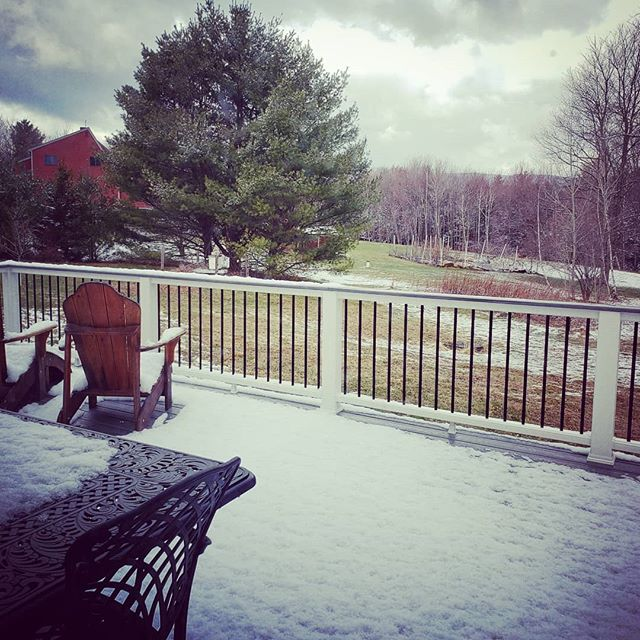building: (29, 125, 126, 216)
chair: (52, 274, 192, 435)
sky: (349, 1, 596, 156), (1, 1, 126, 111)
tree: (105, 1, 365, 273), (541, 9, 640, 262)
